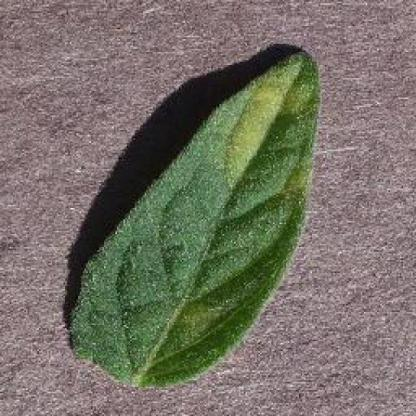Tomato_Leaf_Mold: (75, 51, 319, 379)
